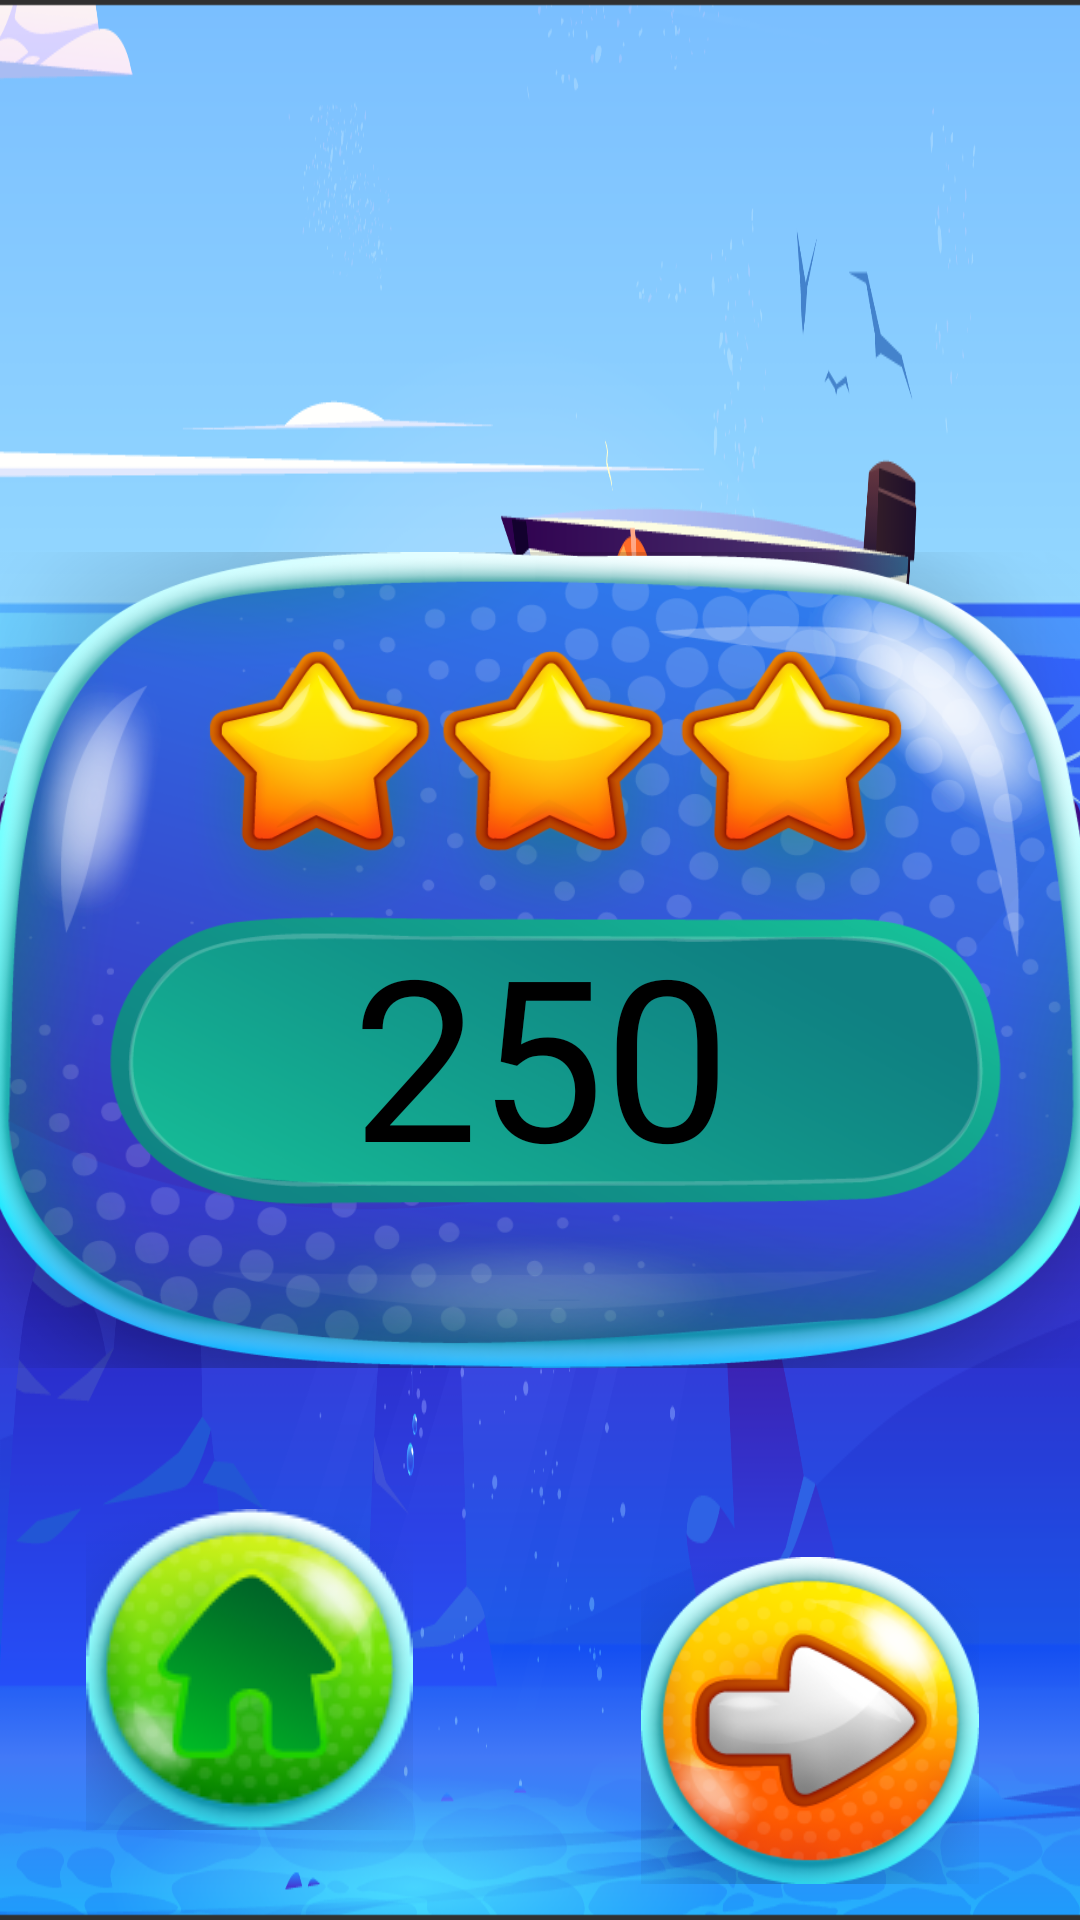

Icons on this 1080*1920 Android screen, each with the point to tap as [x,y]:
home: [249,1669]
